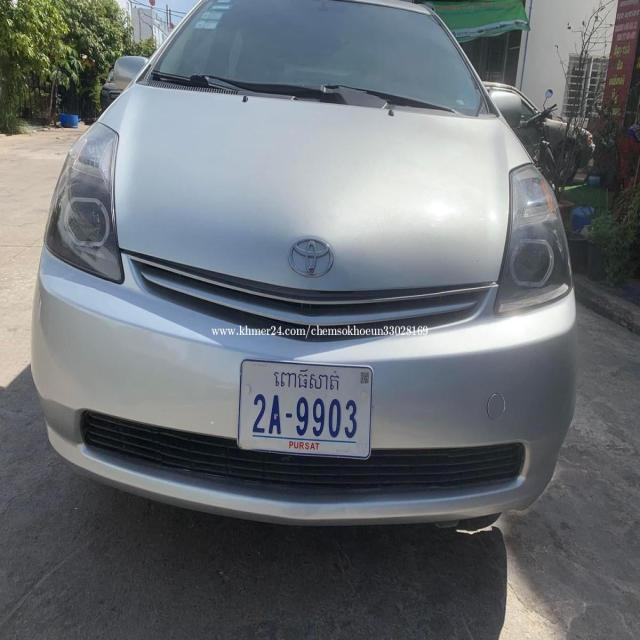Pursat: (272, 367, 340, 393)
